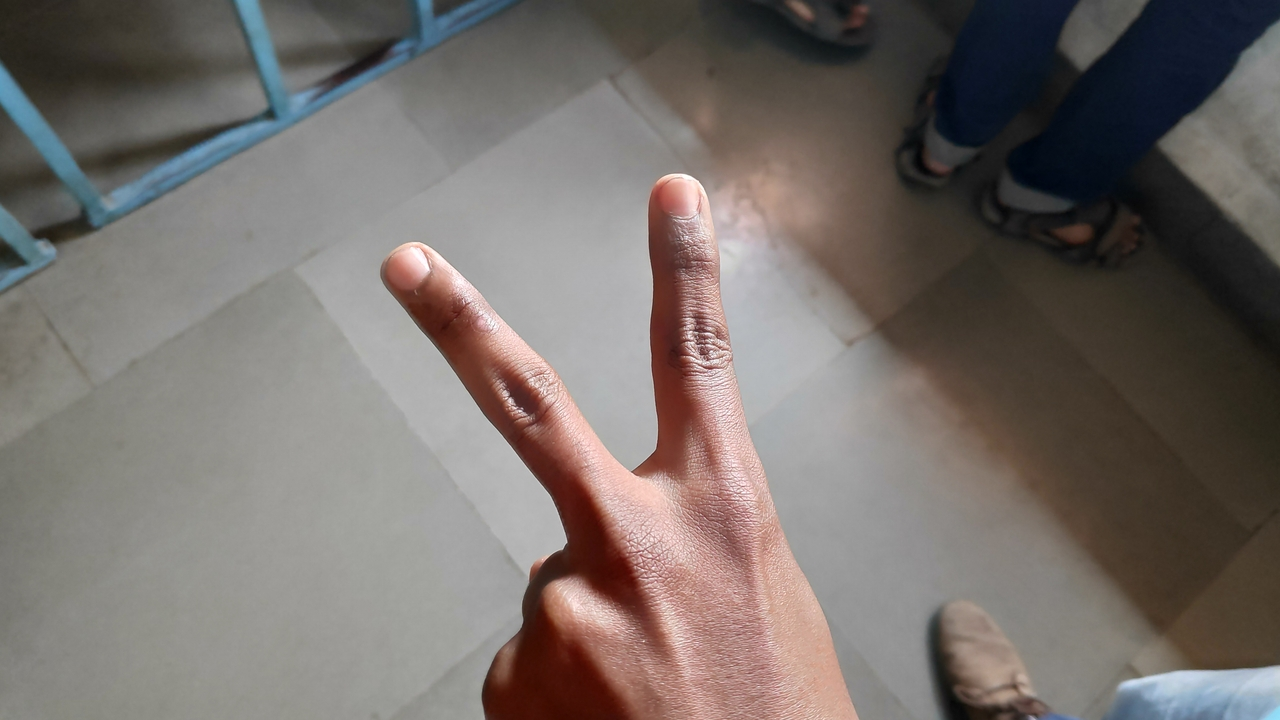fingertip: (366, 236, 438, 302), (646, 166, 714, 230)
